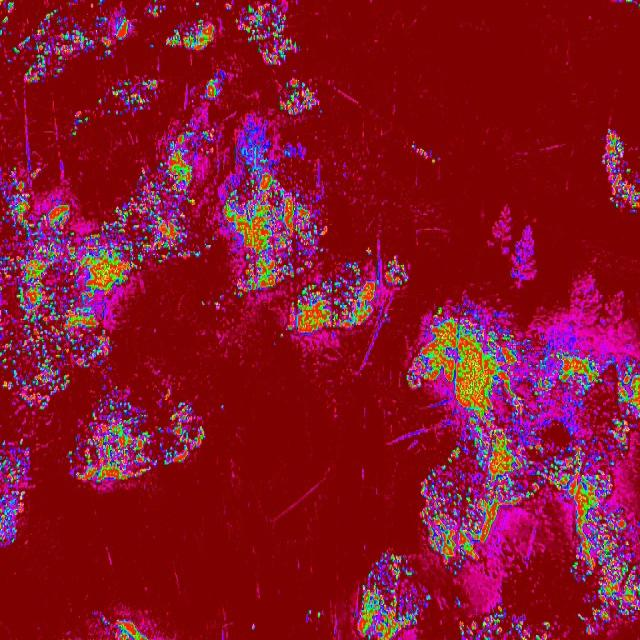fire: (406, 306, 640, 584), (218, 140, 408, 339), (0, 204, 71, 414), (69, 396, 207, 486), (0, 0, 129, 80), (71, 226, 128, 368), (133, 123, 213, 193), (130, 194, 202, 268), (234, 0, 302, 66), (357, 549, 406, 640), (0, 433, 31, 549), (576, 584, 640, 640), (602, 126, 640, 217), (457, 616, 556, 640), (103, 77, 161, 114), (278, 74, 322, 118), (0, 162, 44, 204), (166, 19, 217, 51), (97, 612, 146, 640), (404, 590, 432, 630), (410, 140, 438, 168), (102, 202, 129, 228), (200, 72, 223, 102), (70, 114, 89, 137), (144, 0, 164, 19), (106, 384, 127, 398), (491, 603, 508, 616), (614, 0, 640, 8), (202, 240, 215, 250), (315, 608, 324, 622), (223, 0, 232, 12), (453, 596, 463, 606), (219, 400, 227, 412), (149, 42, 157, 52), (212, 298, 218, 310), (193, 0, 201, 8), (249, 622, 257, 630), (200, 299, 207, 307), (306, 608, 312, 616), (97, 98, 102, 104)
